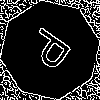P: (25, 25, 81, 78)
